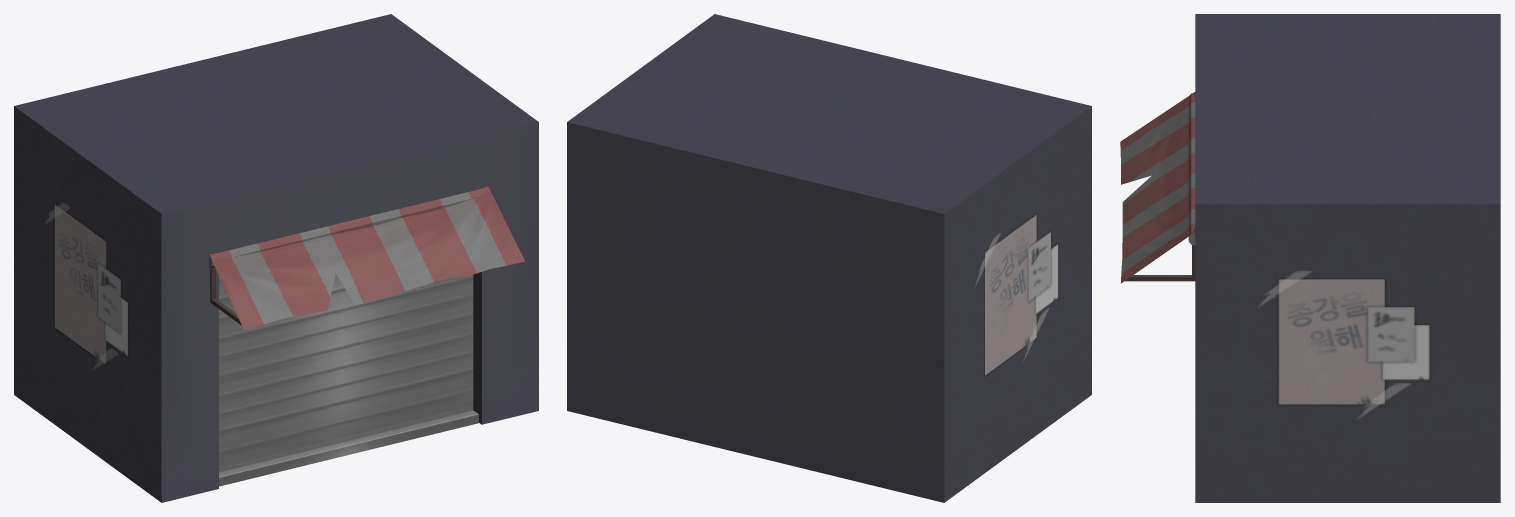
The model's file is S1_mod_BarBuilding_001.fbx.
3 renders of one model, left to right at view 1: azimuth 30°, elevation 25°; view 2: azimuth 150°, elevation 25°; view 3: azimuth 270°, elevation 25°, orthographic. The views are drawn at different scales.
Visible parts, largest first — view 1: S1_mod_BarBuilding_001; view 2: S1_mod_BarBuilding_001; view 3: S1_mod_BarBuilding_001.
Boxes of the visible parts, x1,y1,x2,y2 form: S1_mod_BarBuilding_001: (14,14,538,502); S1_mod_BarBuilding_001: (567,14,1091,502); S1_mod_BarBuilding_001: (1120,14,1500,502).
Size of the model in its own units: 416 by 304 by 351.
